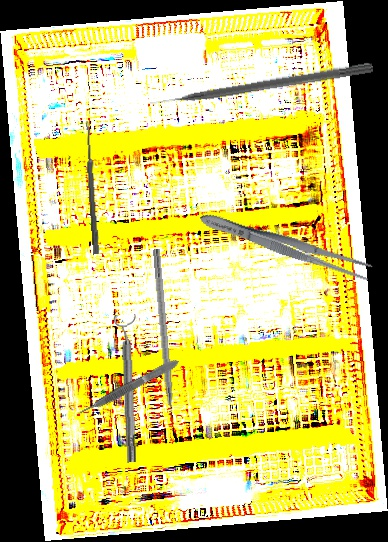Dressing Forceps: (196, 206, 375, 285)
Fixation Ring: (112, 314, 144, 463)
Hook Surgical: (150, 248, 178, 436)
Pusher: (147, 60, 374, 109)
Surgical Spoon: (83, 120, 101, 255)
Tissue Forceps: (74, 356, 182, 419)
